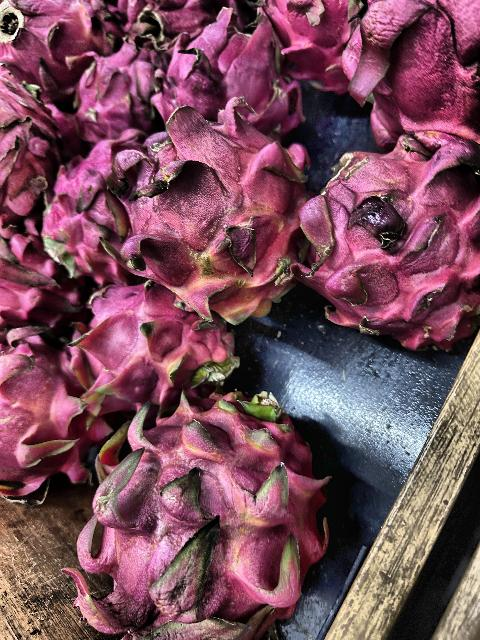buah-naga-belum-matang: (116, 118, 304, 318)
buah-naga-matang: (89, 392, 320, 636), (296, 123, 480, 351), (69, 278, 245, 398), (346, 0, 480, 154), (0, 321, 110, 505), (158, 10, 296, 130), (41, 140, 134, 282), (66, 28, 164, 134), (1, 0, 104, 86), (1, 74, 60, 220), (0, 224, 80, 326), (261, 0, 355, 86), (122, 1, 212, 37)
